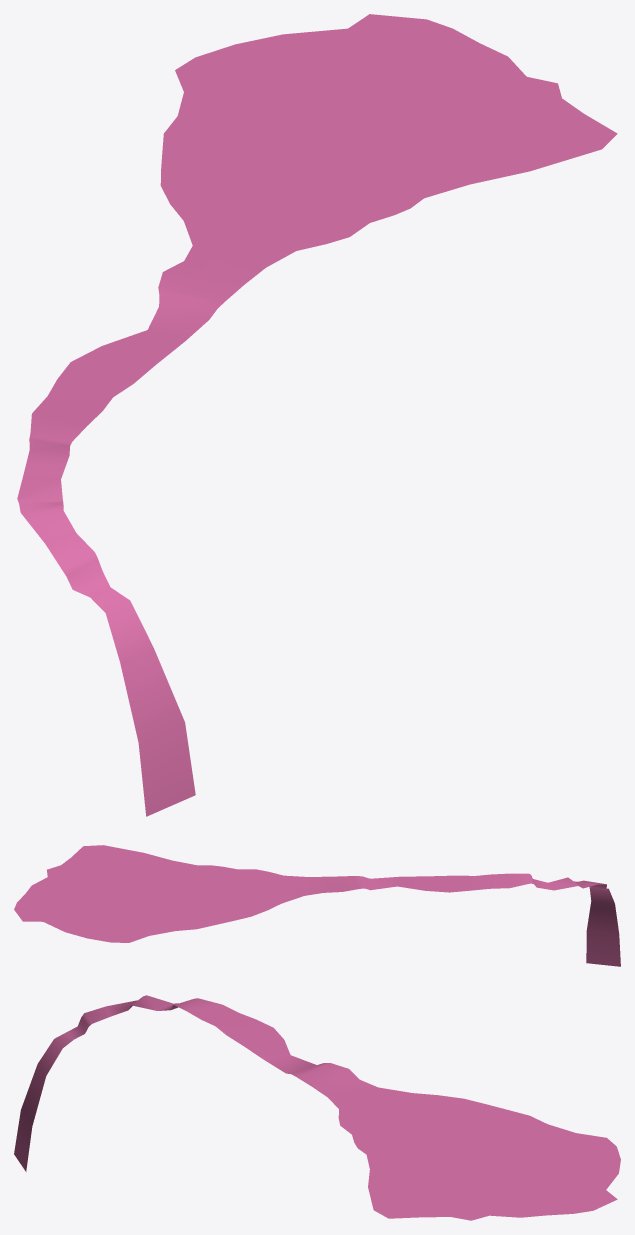
Rendered from cluster_21.fbx.
3 renders of one model, top to bottom at view 1: azimuth 30°, elevation 25°; view 2: azimuth 150°, elevation 25°; view 3: azimuth 270°, elevation 25°, orthographic. The views are drawn at different scales.
Visible parts, largest first — view 1: cluster_21; view 2: cluster_21; view 3: cluster_21.
Boxes of the visible parts, x1,y1,x2,y2 form: cluster_21: (17, 14, 617, 816); cluster_21: (14, 845, 620, 966); cluster_21: (14, 995, 620, 1220).
Bounding box in the file's own units: 537263 × 176173 × 562888.
